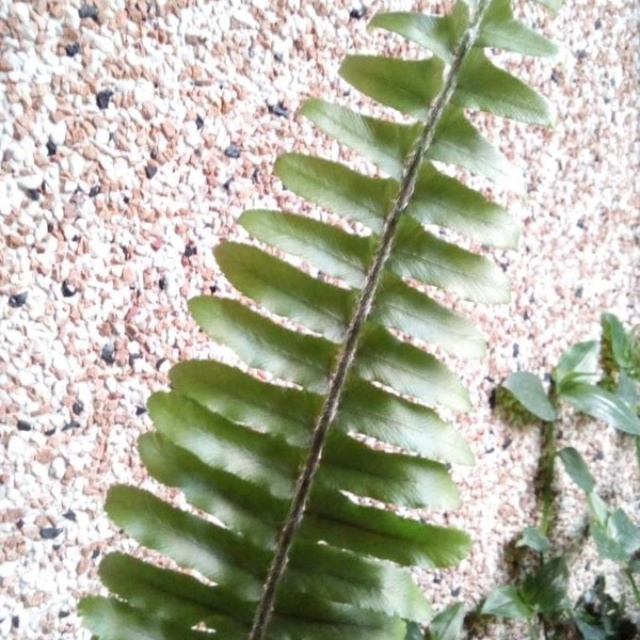obstacle: (105, 29, 508, 614)
